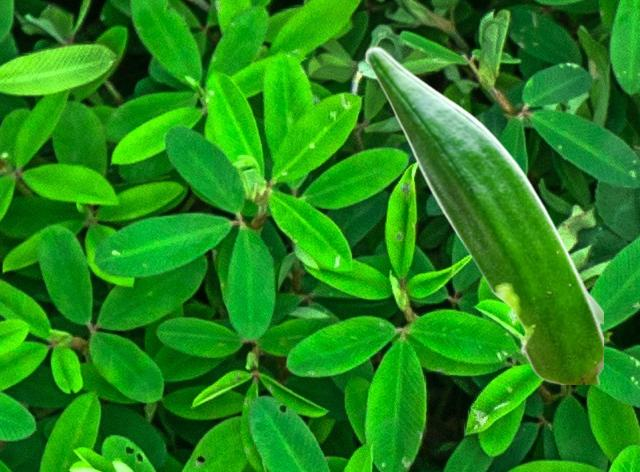okra: (364, 46, 602, 383)
